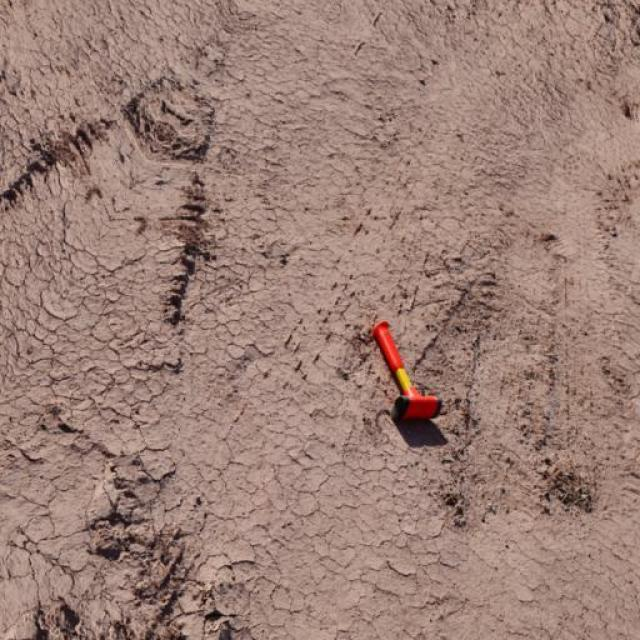mallet: (370, 318, 441, 424)
